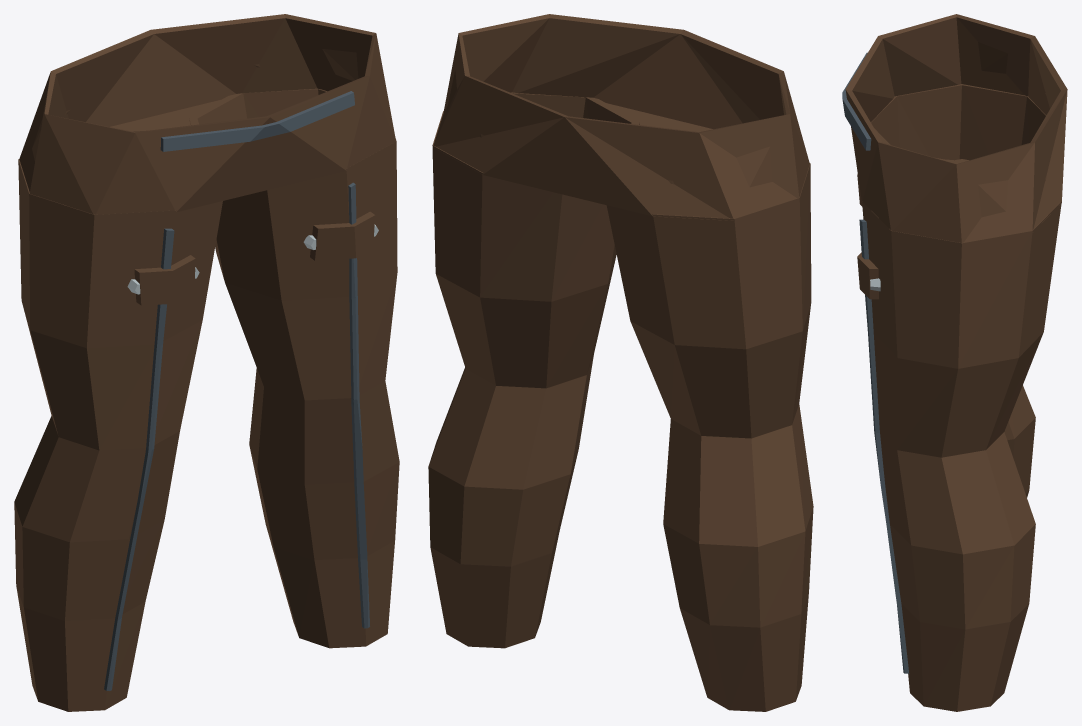
File: studded_legs-female-thickHide.glb
3 views of the same model, side by side, from view 1: azimuth 30°, elevation 25°; view 2: azimuth 150°, elevation 25°; view 3: azimuth 270°, elevation 25° (orthographic). The views are drawn at different scales.
Parts seen in each view (by area): view 1: studded trouser leg -1, studded trouser leg 1, studded trouser pelvis yoke, Trouser reinforced front seam 1, Trouser reinforced front seam -1, Trouser waist facing, Heavy hide binding studded trouser leg 1, Heavy hide binding studded trouser leg -1; view 2: studded trouser leg -1, studded trouser leg 1, studded trouser pelvis yoke; view 3: studded trouser leg 1, studded trouser pelvis yoke, studded trouser leg -1, Trouser reinforced front seam 1, Trouser waist facing, Heavy hide binding studded trouser leg 1.
Boxes of the visible parts, box(x1,y1,x2,y2) form: studded trouser leg -1: box(14, 127, 222, 711); studded trouser leg 1: box(189, 88, 399, 648); studded trouser pelvis yoke: box(19, 14, 395, 214); Trouser reinforced front seam 1: box(348, 182, 369, 628); Trouser reinforced front seam -1: box(104, 228, 174, 690); Trouser waist facing: box(160, 91, 354, 151); Heavy hide binding studded trouser leg 1: box(310, 211, 375, 260); Heavy hide binding studded trouser leg -1: box(134, 255, 195, 305); studded trouser leg -1: box(606, 163, 813, 711); studded trouser leg 1: box(428, 92, 639, 648); studded trouser pelvis yoke: box(433, 14, 809, 220); studded trouser leg 1: box(862, 159, 1061, 711); studded trouser pelvis yoke: box(845, 14, 1067, 242); studded trouser leg -1: box(871, 84, 1046, 497); Trouser reinforced front seam 1: box(859, 219, 909, 673); Trouser waist facing: box(842, 52, 871, 150); Heavy hide binding studded trouser leg 1: box(857, 252, 878, 299).
Bounding box in the file's own units: 2.27 × 3.45 × 1.29.
